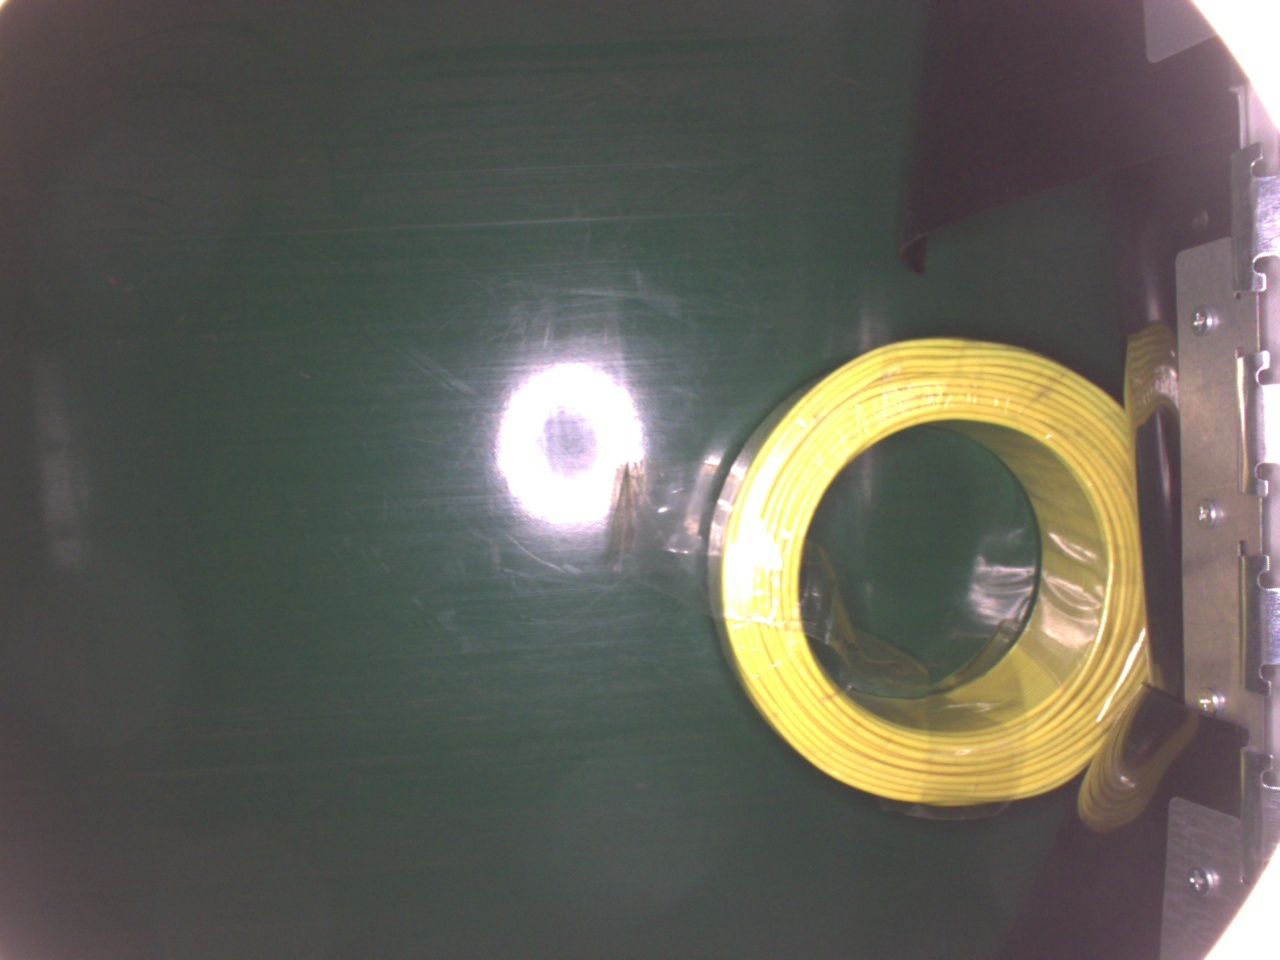yellow: (702, 337, 1148, 808)
